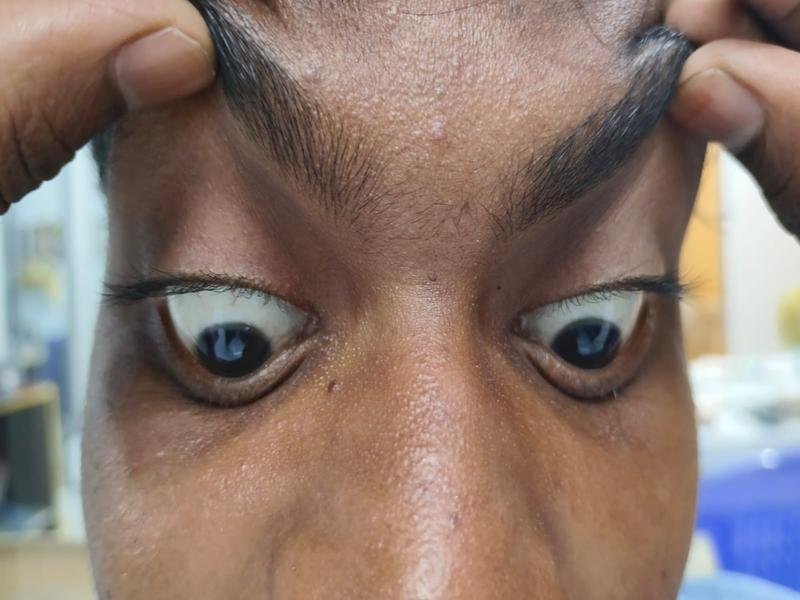EYE DOWN: (170, 287, 296, 377), (535, 293, 641, 368)
